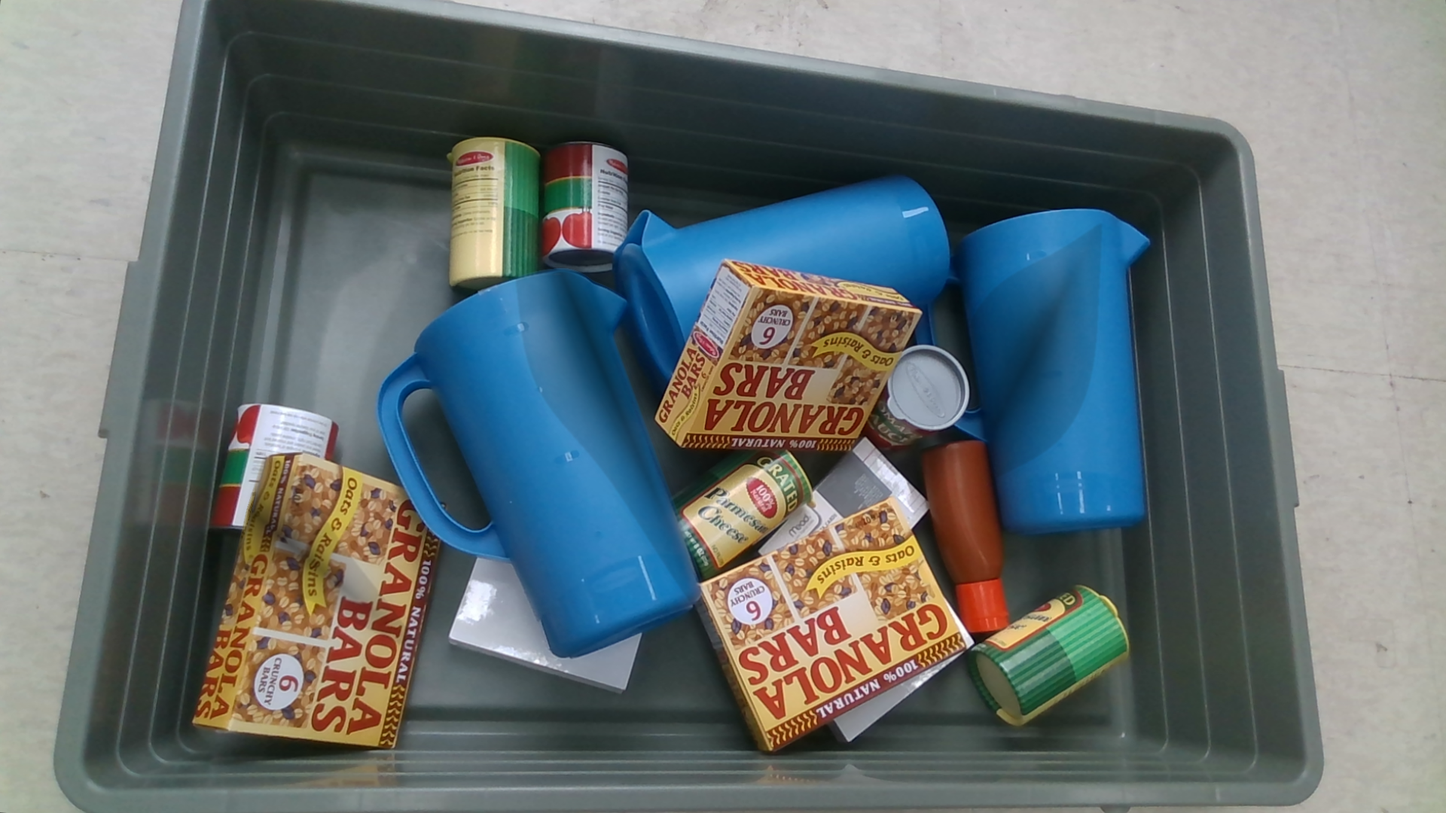defect: (516, 269, 702, 602), (957, 224, 1102, 478), (235, 455, 413, 649)
